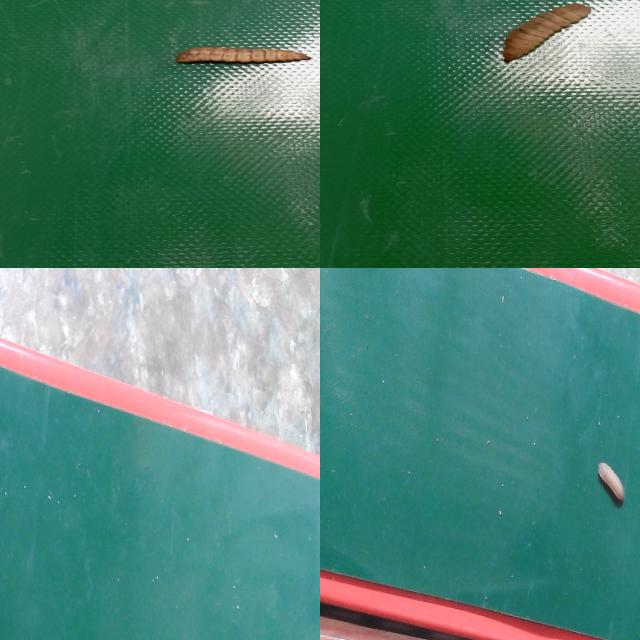Maggot: (501, 3, 591, 64), (174, 49, 309, 65), (598, 464, 627, 509)
